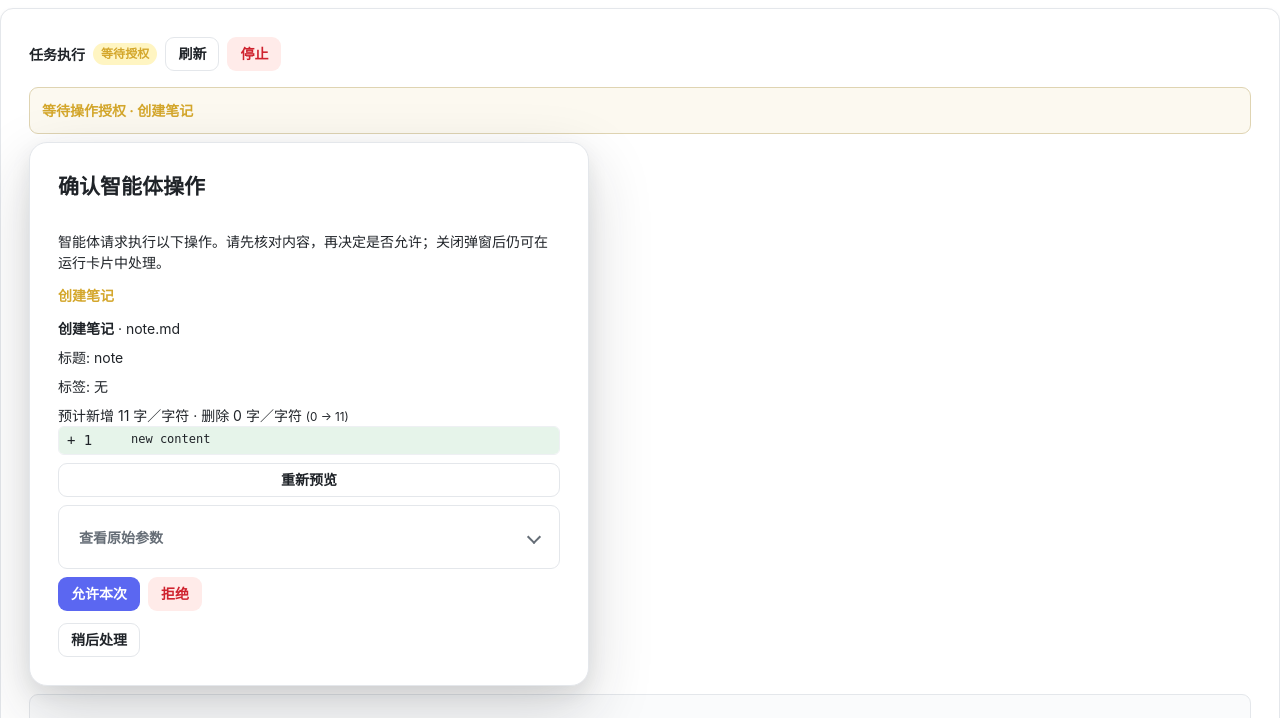
Test case: opens a permission dialog in chat and keeps the inline action when postponed
The width and height of the screenshot is (1280, 718).
Check: the element that starts with "确认智能体操作" is shown, box [58,174,205,199]
Check: the element that starts with "确认智能体操作" shows "允许本次", box [58,577,140,611]
Click the button "稍后处理" at (99, 640), box [58,623,140,657]
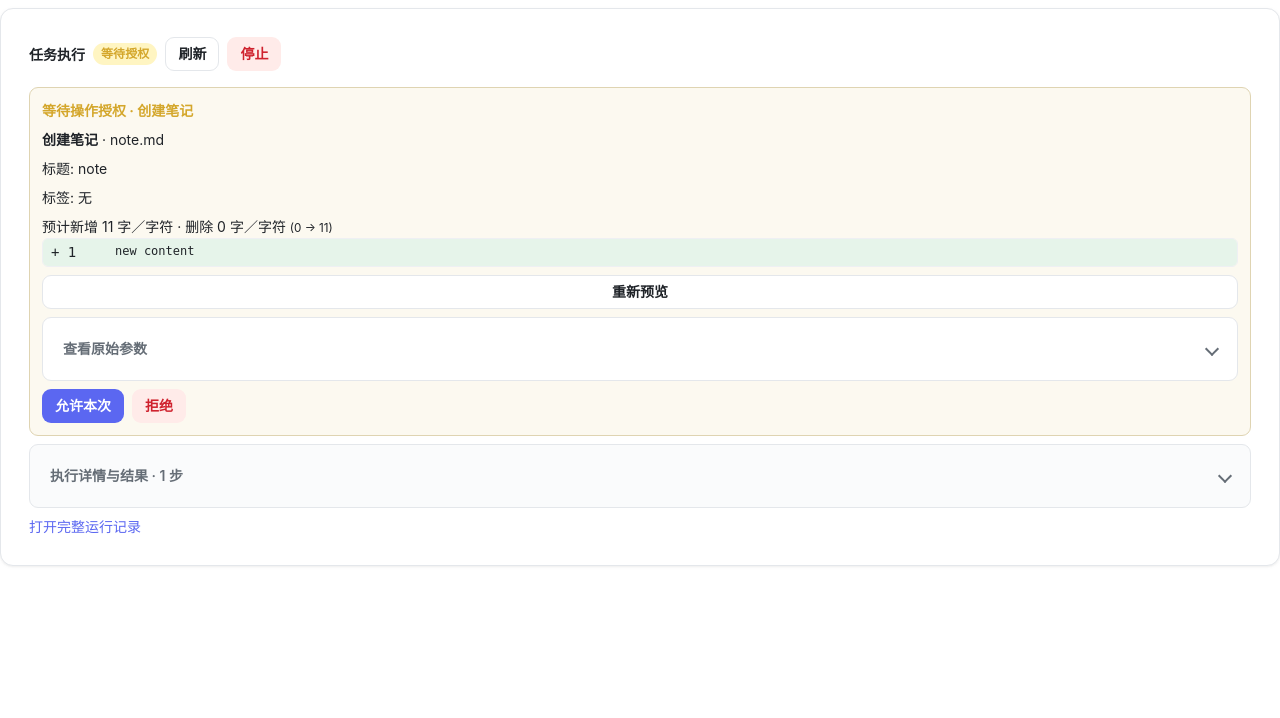
Check: the element that starts with "等待操作授权 · 创建笔记" shows "允许本次", box [42,388,124,422]
